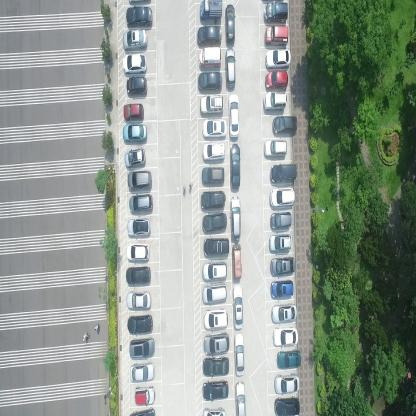car: (270, 162, 298, 185), (202, 334, 230, 357), (202, 355, 230, 378), (273, 323, 298, 348), (265, 47, 292, 70), (126, 6, 153, 29), (202, 309, 228, 332), (202, 379, 229, 401), (127, 313, 154, 335), (128, 338, 155, 360), (273, 113, 297, 137), (232, 284, 244, 332), (198, 44, 221, 69), (201, 188, 226, 211), (270, 255, 296, 277), (122, 30, 148, 52), (122, 122, 148, 144), (129, 361, 155, 383), (270, 302, 297, 323), (228, 93, 240, 140), (275, 372, 300, 394), (198, 0, 223, 22), (199, 94, 224, 116), (201, 118, 226, 140), (200, 165, 226, 186), (204, 235, 230, 256), (125, 291, 153, 310), (265, 25, 288, 48), (263, 89, 287, 111), (264, 137, 288, 159), (122, 54, 148, 74), (126, 216, 152, 236), (126, 266, 152, 286), (270, 279, 294, 300), (197, 25, 221, 46), (270, 187, 295, 207), (277, 350, 302, 370), (230, 142, 240, 192), (201, 261, 226, 281), (202, 284, 227, 304), (274, 396, 300, 415), (126, 171, 152, 190), (225, 47, 236, 91), (269, 232, 292, 253), (263, 2, 287, 22), (202, 142, 226, 162), (126, 242, 150, 262), (128, 194, 153, 213), (202, 214, 228, 232), (270, 209, 292, 230), (134, 384, 155, 406), (231, 194, 241, 240), (122, 102, 145, 122), (265, 70, 289, 89), (198, 72, 222, 91), (234, 332, 244, 376), (225, 3, 235, 46), (235, 380, 247, 415), (126, 76, 148, 95), (124, 148, 146, 167), (231, 243, 242, 280), (202, 404, 226, 415)
